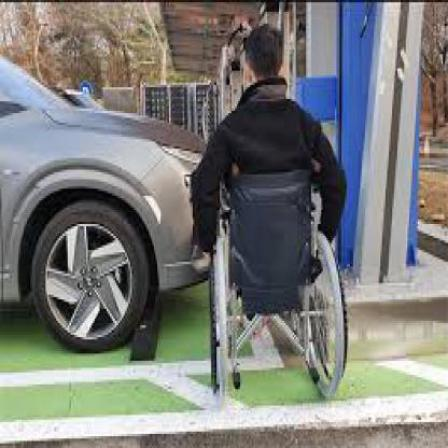wheel: (197, 31, 350, 395)
